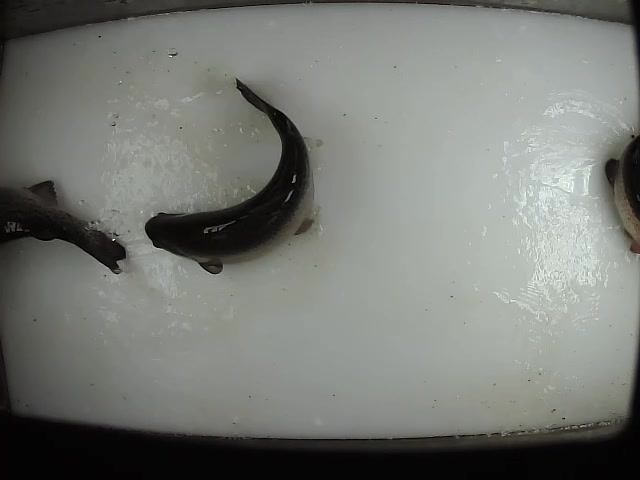fish: (143, 74, 320, 275), (1, 179, 127, 276), (605, 130, 640, 253)
